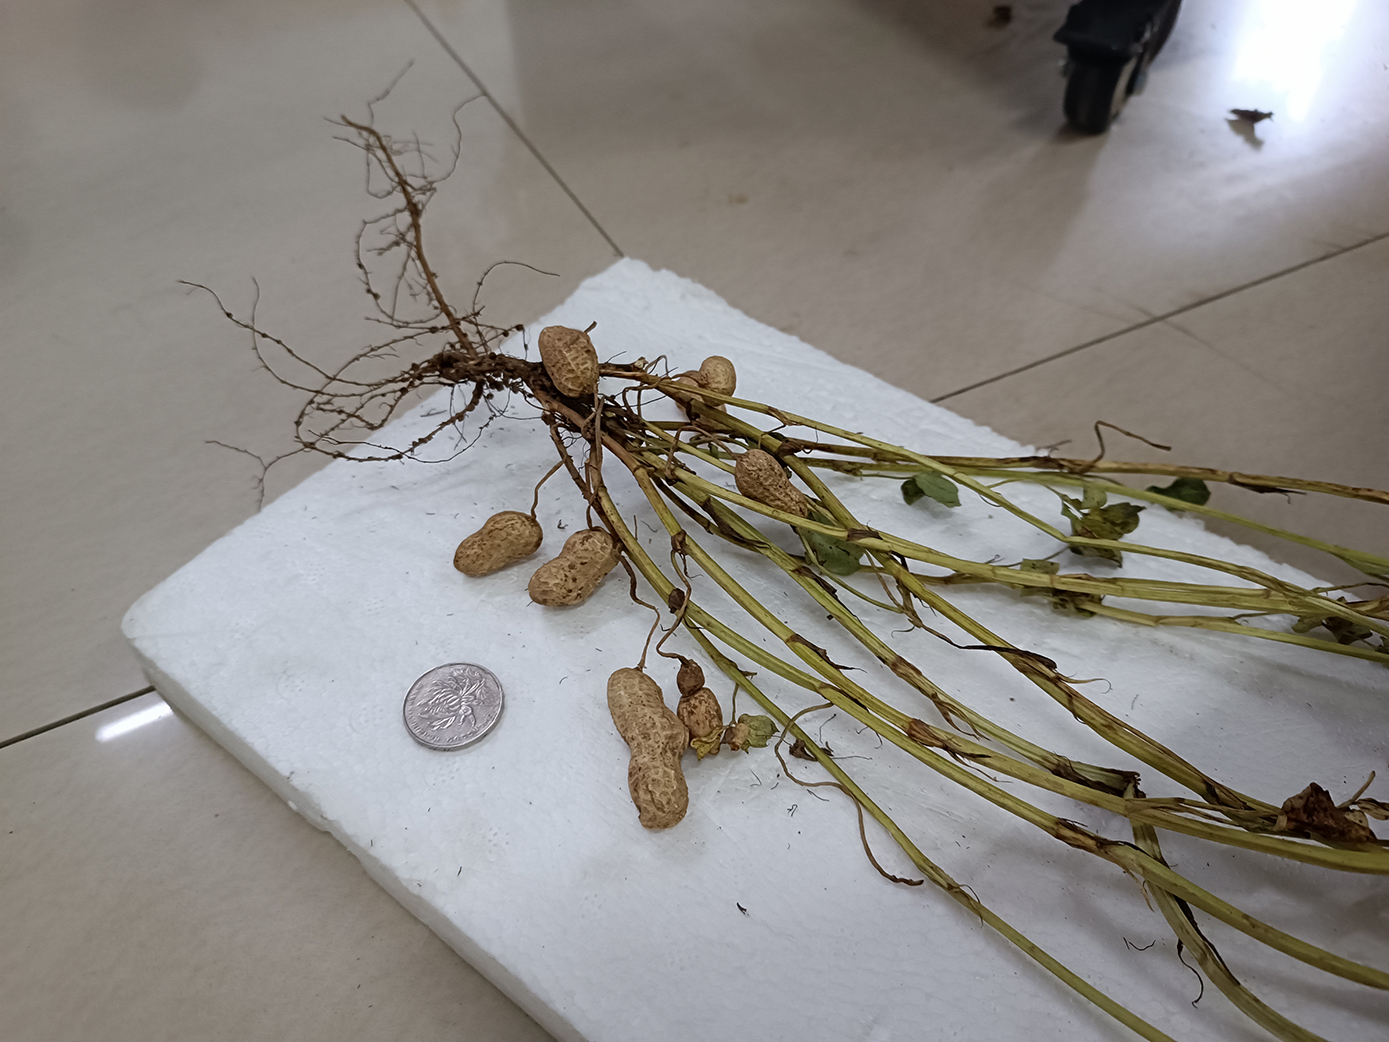h: (609, 667, 685, 831), (528, 528, 624, 615), (455, 510, 541, 576), (737, 450, 812, 517), (679, 659, 724, 766), (539, 322, 600, 397), (701, 356, 739, 403)
